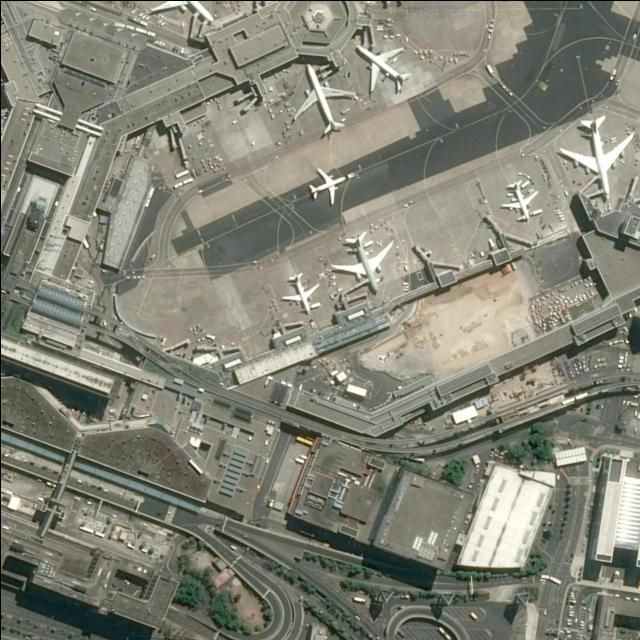Aircraft: (555, 112, 635, 204), (288, 63, 359, 143), (328, 229, 394, 301), (347, 41, 413, 97), (142, 0, 217, 31), (497, 175, 541, 227), (277, 270, 323, 318), (303, 166, 350, 209)
